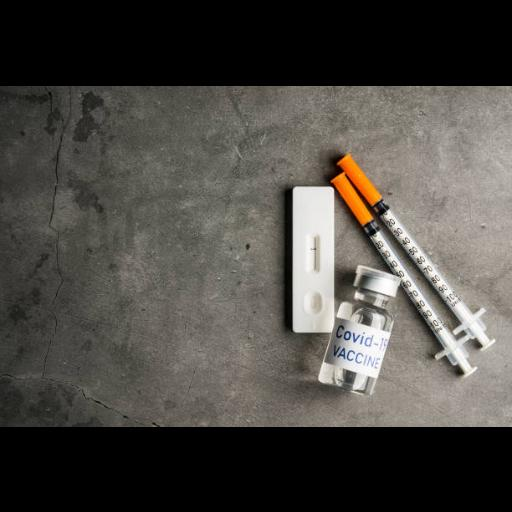Neg: (290, 186, 334, 332)
